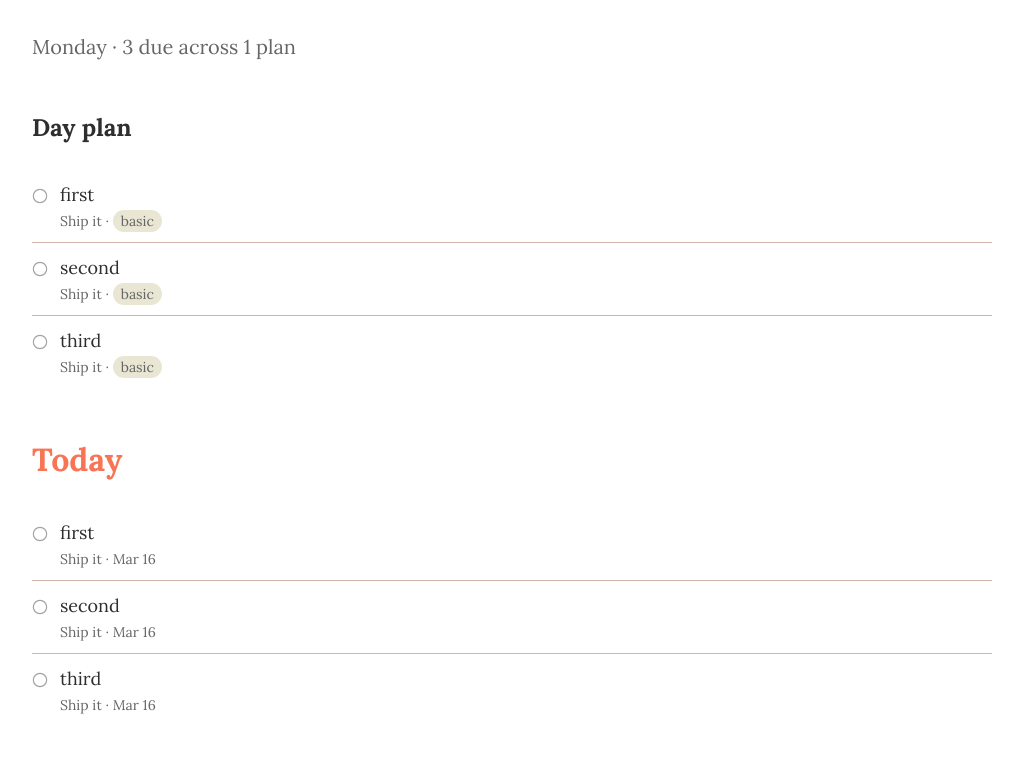
Test: Dashboard — ticking a row off home (R33) › should keep the sentence and the list agreeing about the count
Expected: the heading "Today" is shown, [32,439,122,480]
Expected: the text "Monday · 3 due across 1 plan" is shown, [32,34,296,59]
Click the checkbox named "first": (40, 534) [32,526,48,542]
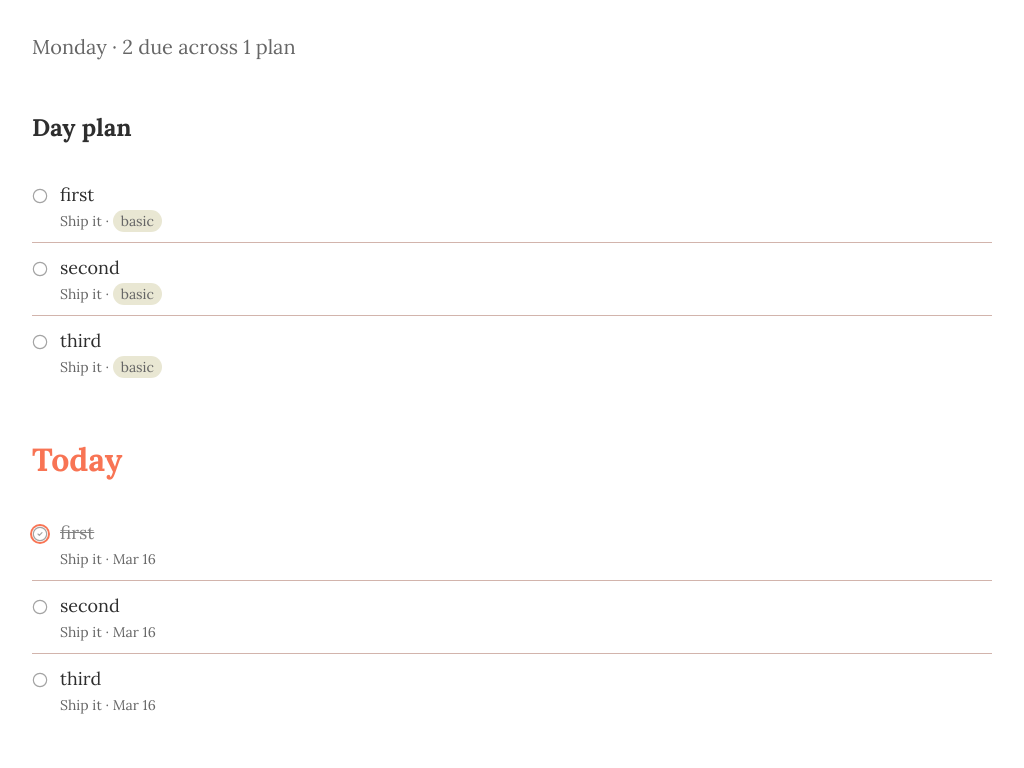
Result: the text "Monday · 2 due across 1 plan" is shown at [32,34,296,59]
Click the checkbox named "third": (40, 680) [32,672,48,688]
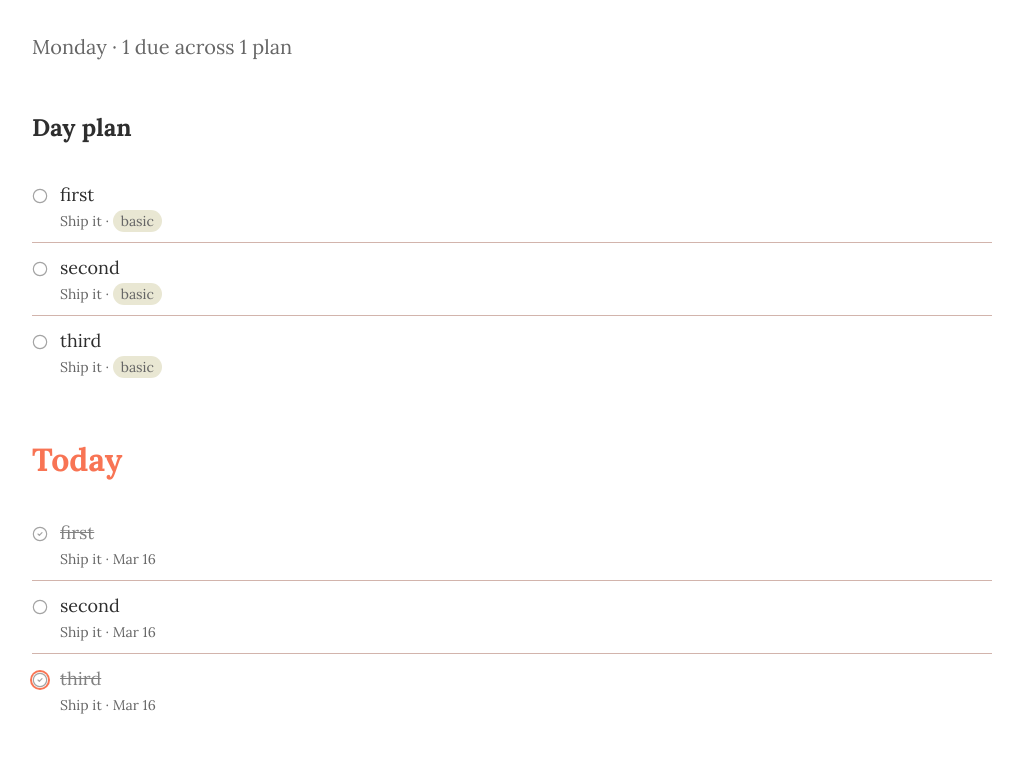
Result: the text "Monday · 1 due across 1 plan" is shown at [32,34,292,59]
